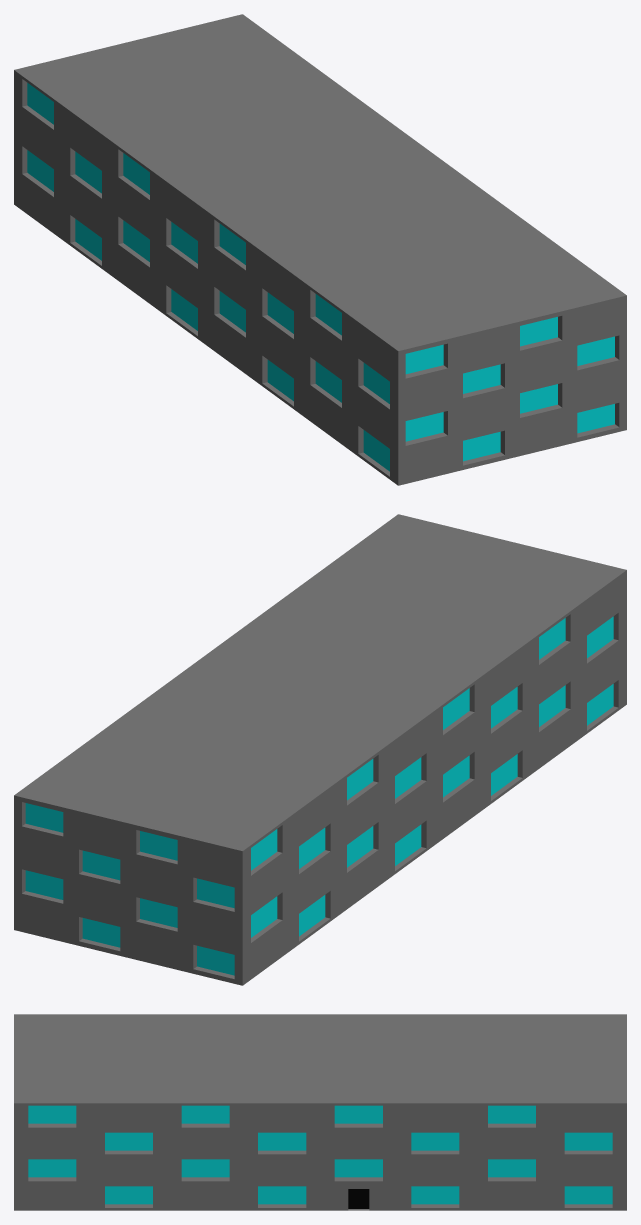
Rendered from Predio7.fbx.
3 renders of one model, top to bottom at view 1: azimuth 30°, elevation 25°; view 2: azimuth 150°, elevation 25°; view 3: azimuth 270°, elevation 25°, orthographic. The views are drawn at different scales.
Parts seen in each view (by area): view 1: Cube; view 2: Cube; view 3: Cube.
Part boxes in pixels (<box>): Cube: <box>14,14,626,485</box>; Cube: <box>14,514,626,985</box>; Cube: <box>14,1014,626,1210</box>.
Bounding box in the file's own units: 185 × 104 × 537.
